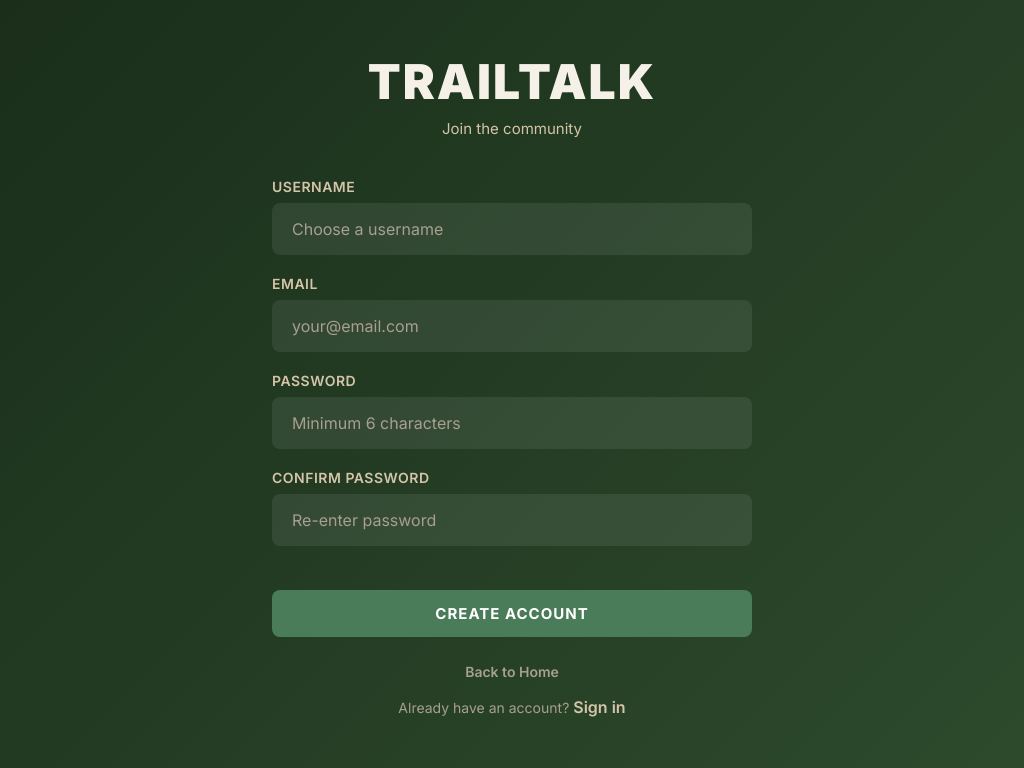
Test: shows an error when passwords do not match
This screenshot has width=1024, height=768.
Type "hiker" into the field with placeholder "Choose a username".
click(512, 228); type("hiker")  # box [272, 202, 752, 254]
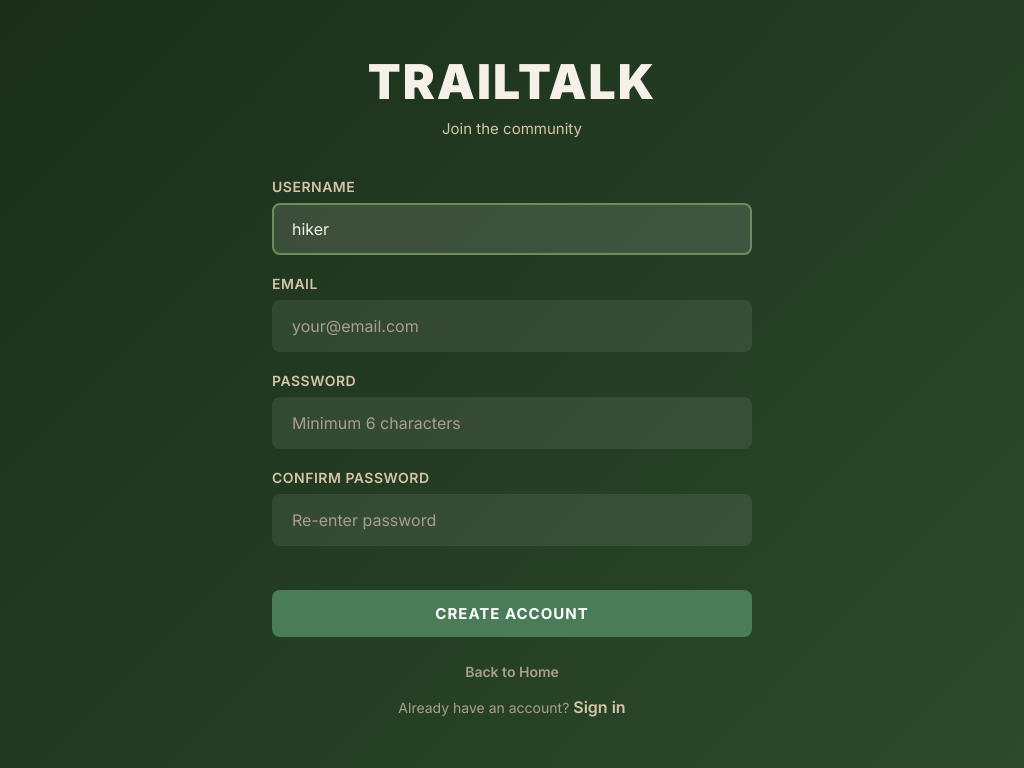
Type "hiker@example.com" into the field with placeholder "your@email.com".
click(512, 326); type("hiker@example.com")  # box [272, 300, 752, 352]
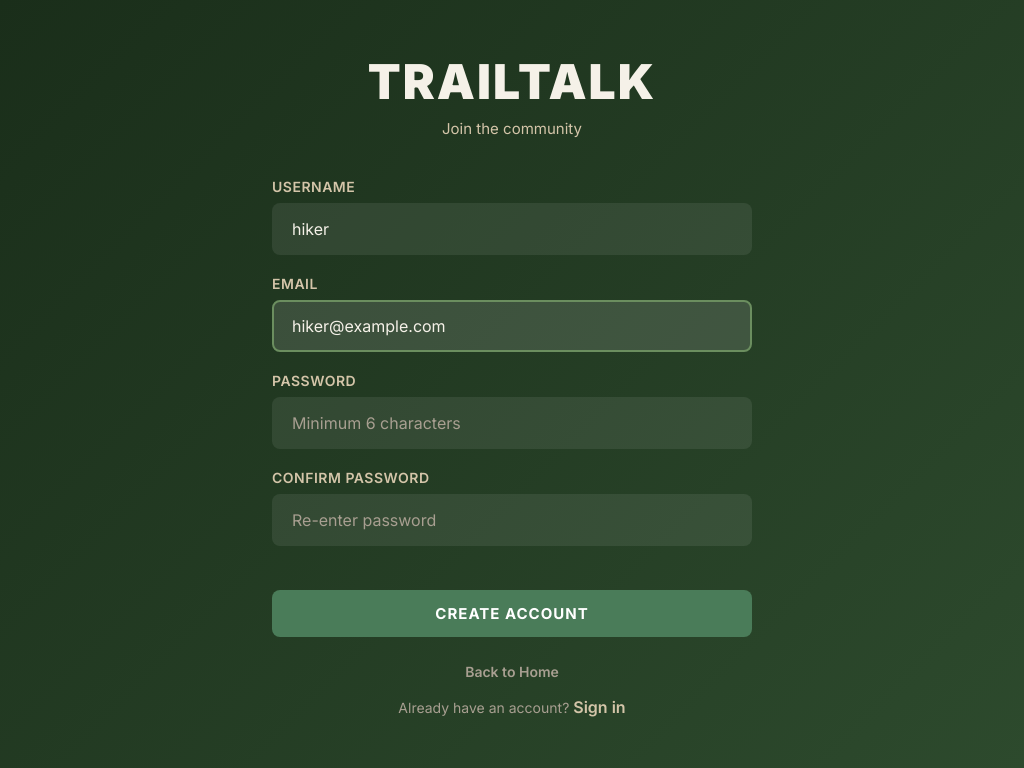
Type "secret1" into the password field with placeholder "Minimum 6 characters".
click(512, 422); type("secret1")  # box [272, 396, 752, 448]
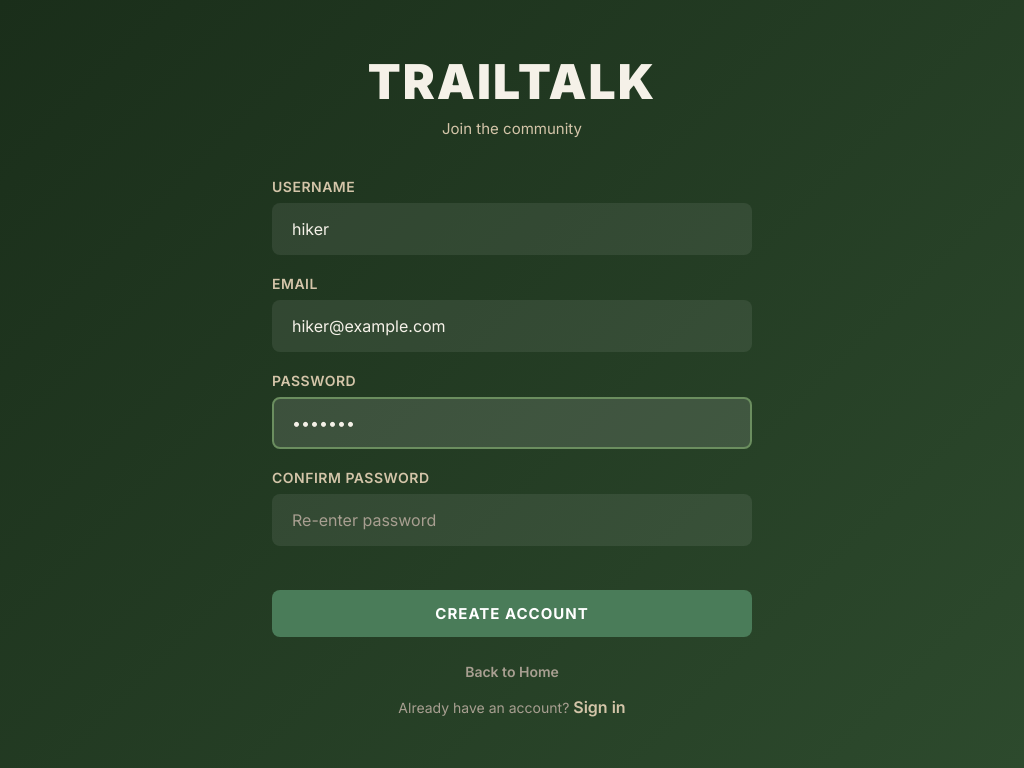
Type "secret2" into the password field with placeholder "Re-enter password".
click(512, 520); type("secret2")  # box [272, 494, 752, 546]
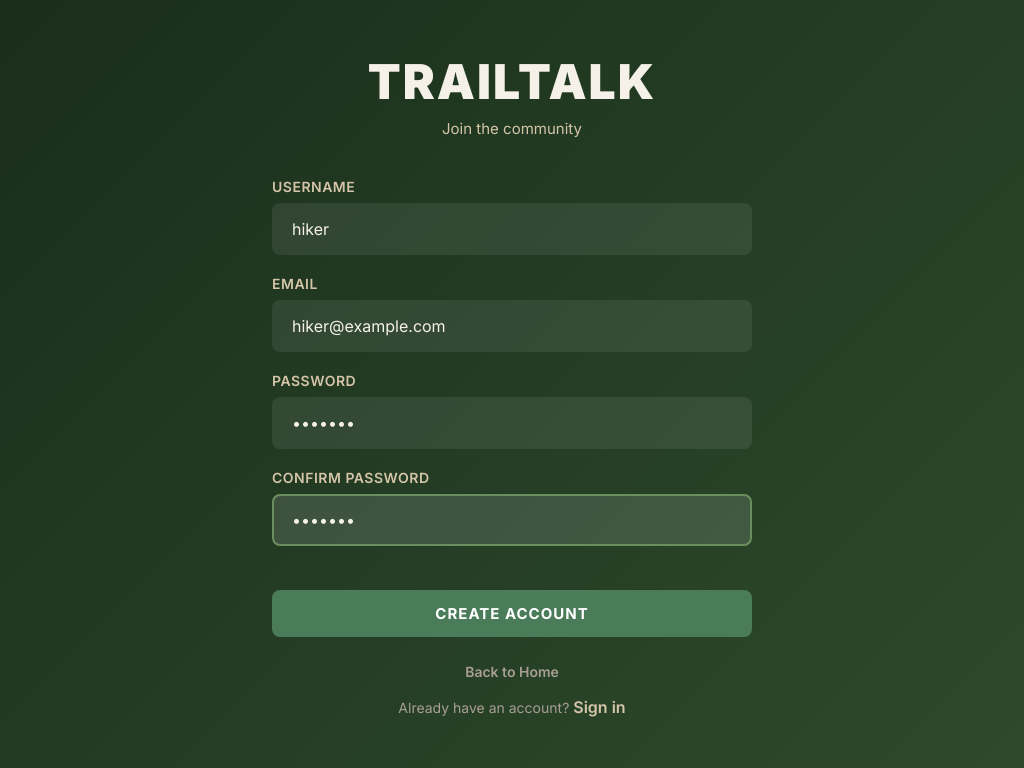
Click the button "CREATE ACCOUNT".
click(512, 613)  # box [272, 590, 752, 636]
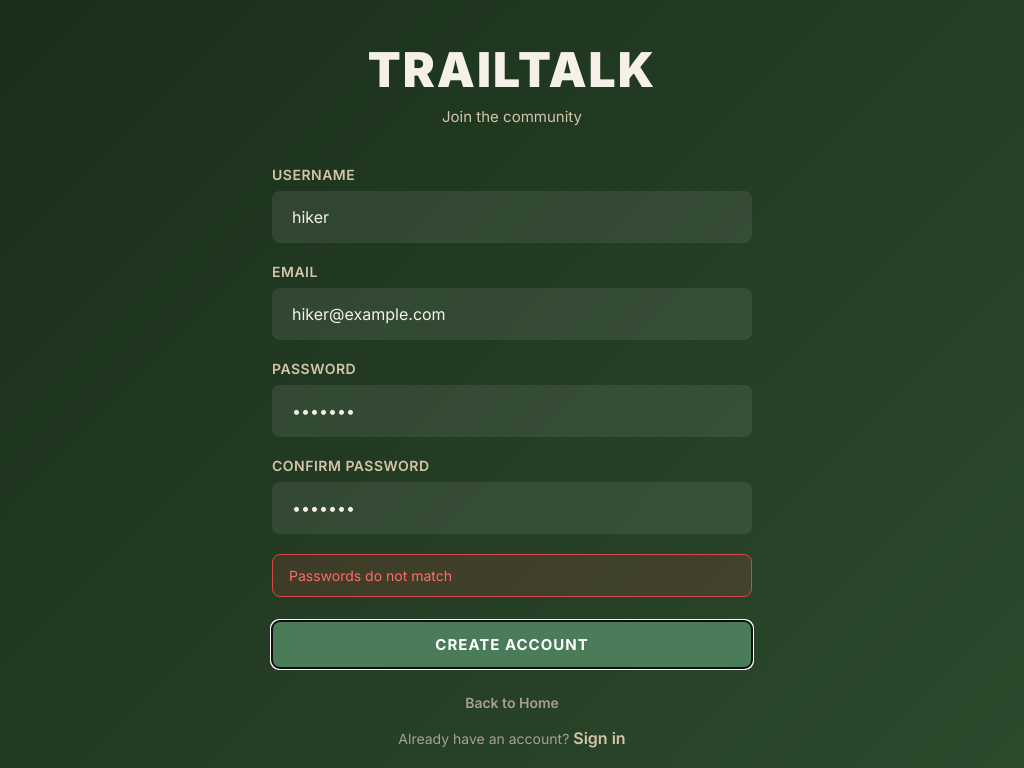
Check: the text "Passwords do not match" is shown, box [272, 554, 752, 597]
